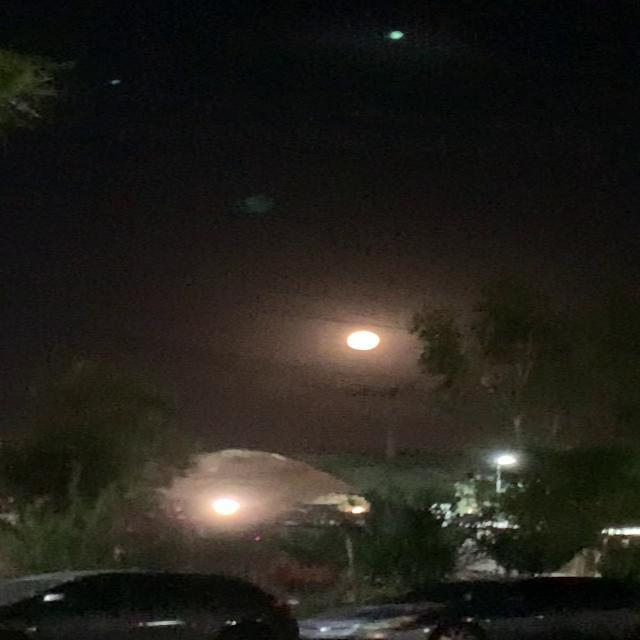moon: (343, 332, 385, 356)
